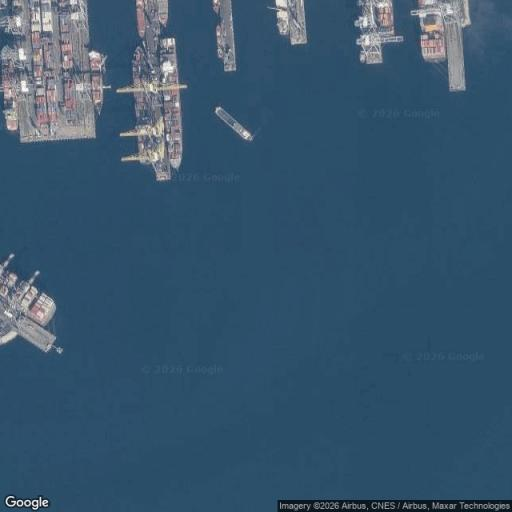ship: (0, 265, 58, 328), (131, 46, 161, 164), (159, 39, 183, 172), (419, 0, 447, 62), (216, 107, 253, 141), (89, 50, 104, 115), (377, 1, 394, 35), (275, 1, 290, 35), (136, 1, 146, 39), (159, 0, 168, 26), (216, 25, 223, 58)
